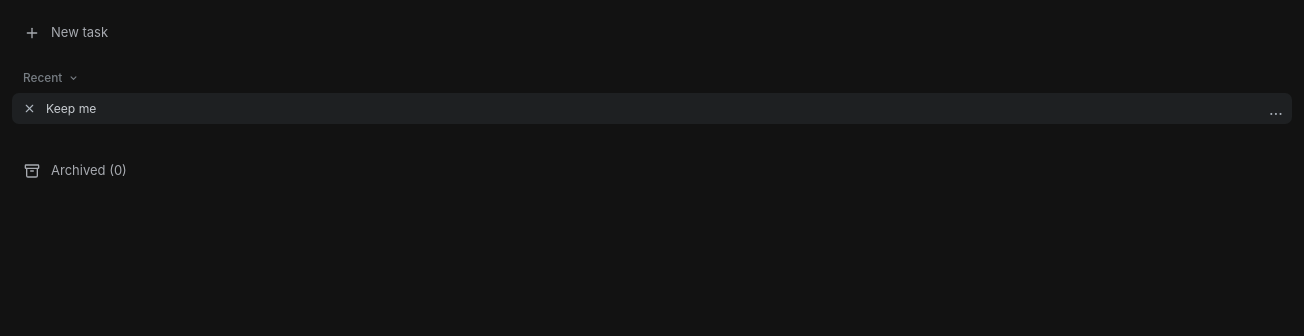
Test case: reports download failure while preserving the conversation
Right-click the button "Keep me" at (71, 108), box [12,93,1292,124]
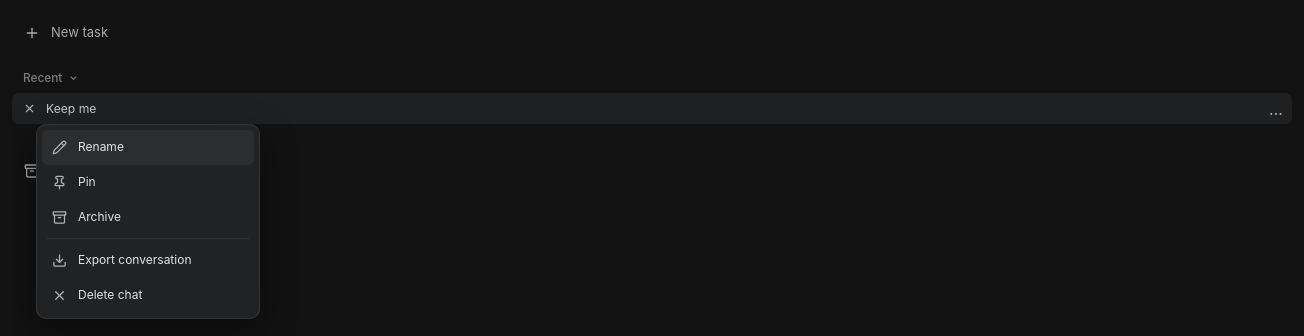
Click the menu item "Export conversation" at (148, 261), box [42,244,254,278]
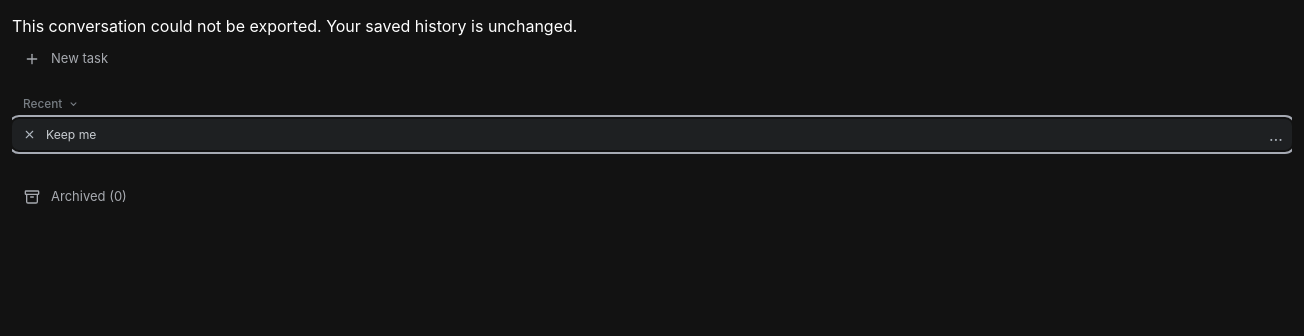
Expected: the message shows "could not be exported", [12,16,577,36]
